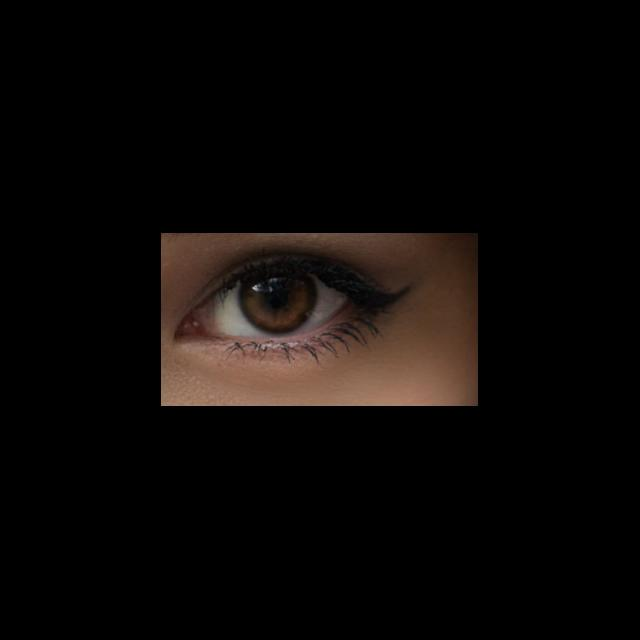eye: (208, 271, 350, 339)
iris: (240, 274, 315, 333)
